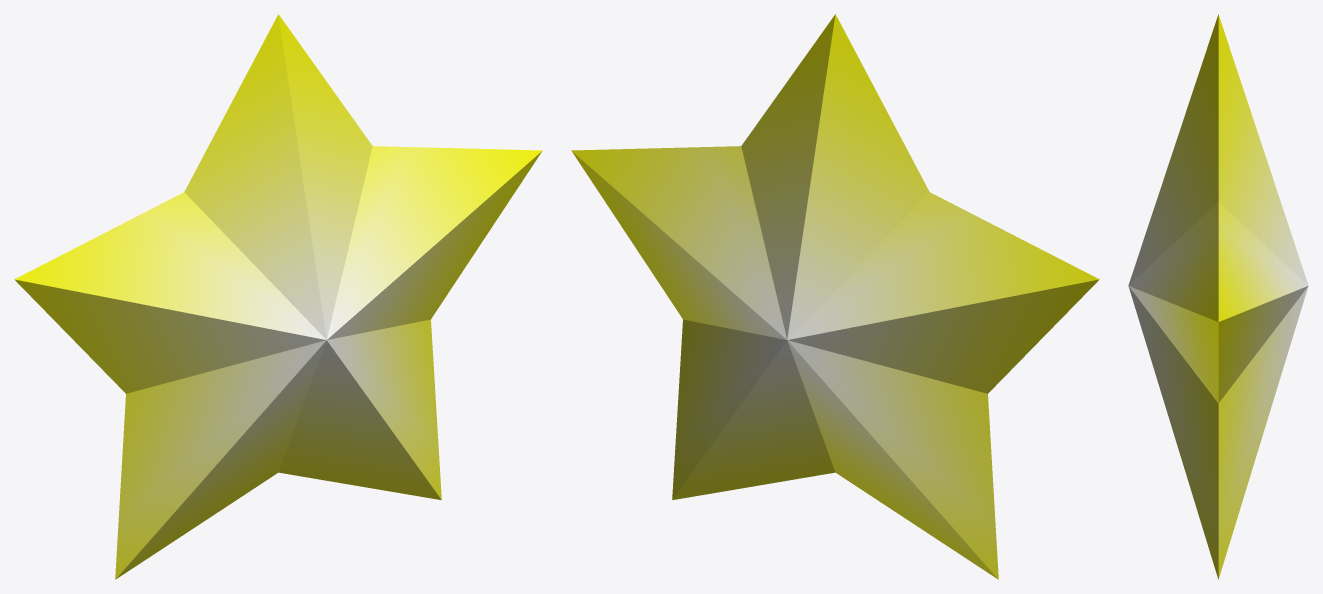
The model's file is GoalStar.fbx.
3 views of the same model, side by side, from view 1: azimuth 30°, elevation 25°; view 2: azimuth 150°, elevation 25°; view 3: azimuth 270°, elevation 25° (orthographic). The views are drawn at different scales.
Visible parts, largest first — view 1: Gengon001; view 2: Gengon001; view 3: Gengon001.
Boxes of the visible parts, x1=… form: Gengon001: x1=14, y1=14, x2=542, y2=579; Gengon001: x1=571, y1=14, x2=1099, y2=579; Gengon001: x1=1128, y1=14, x2=1308, y2=579.
Bounding box in the file's own units: 85.67 × 27.08 × 81.48.
1 material, 1 textured.
